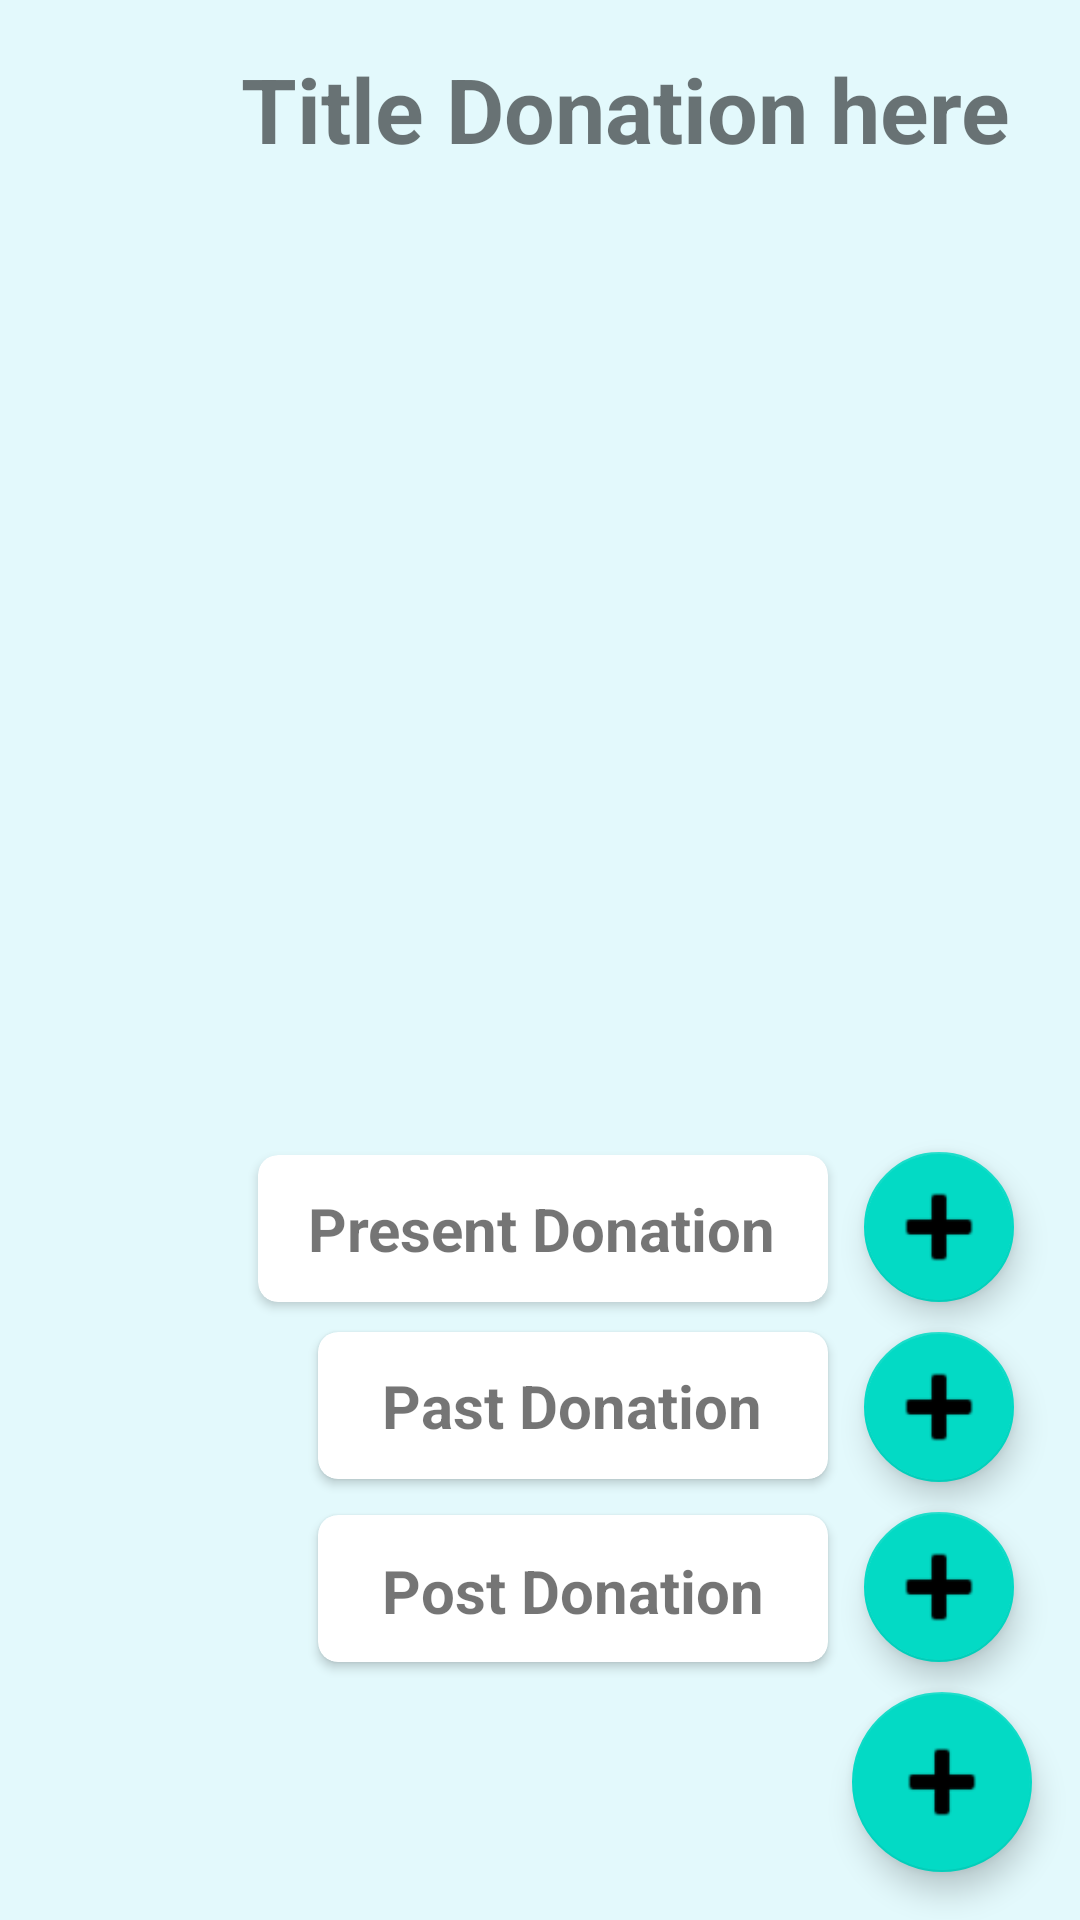

Where to tap for icons on this 1080 × 1920 app screen, as point (x, y):
add: point (939, 1227), point (939, 1407), point (939, 1587), point (942, 1782)
